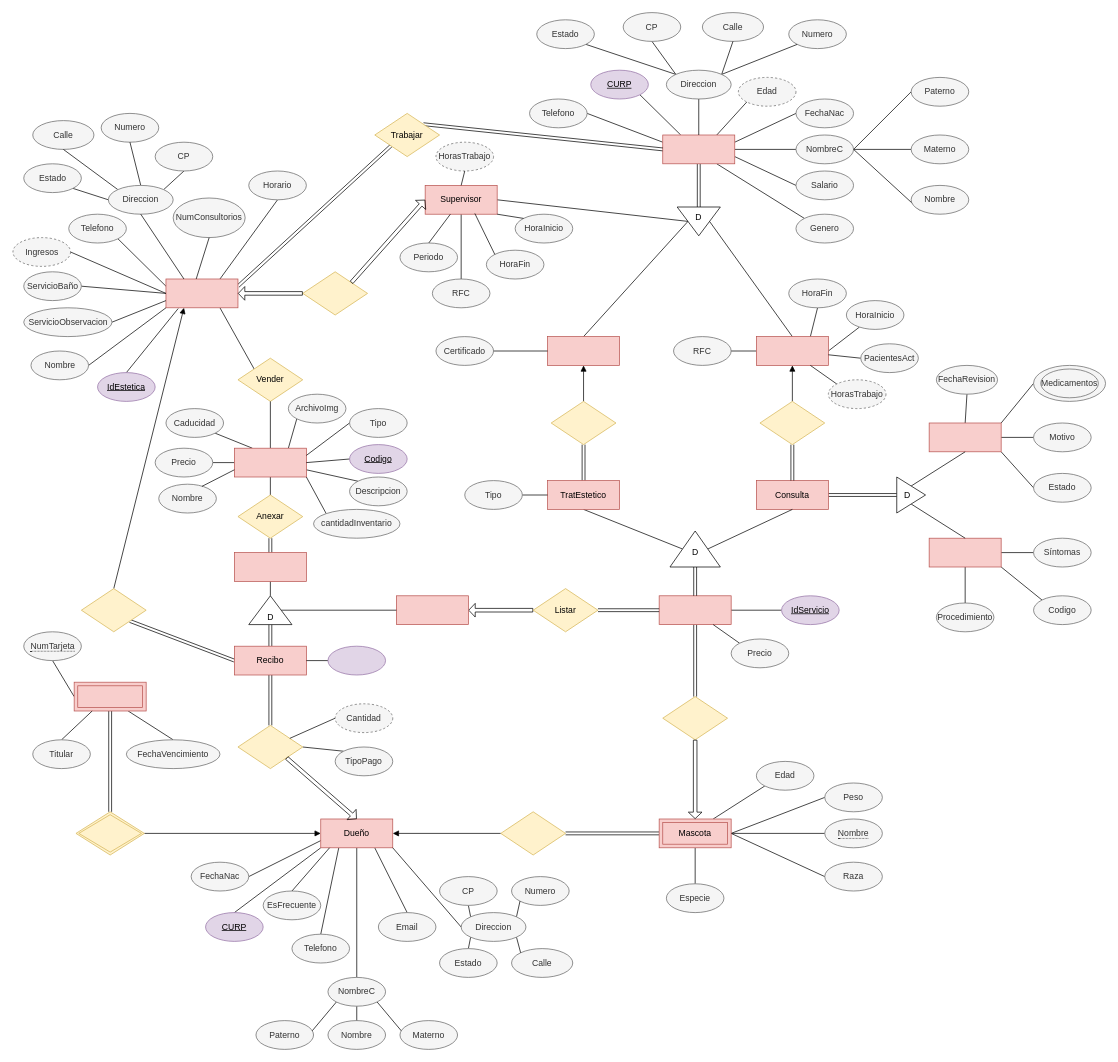
Image size: 1118x1062. Some labels were removed from this diagram. The centre of each missing label's shape, as x and y in pixels:
"Asociar" goes at [109,833].
"Atender" goes at [792,423].
"Emergencia" goes at [964,552].
"Estetica" goes at [201,293].
"Estilista" goes at [583,350].
"Normal" goes at [964,437].
"NumRecibo" goes at [356,660].
"Pagar" goes at [270,747].
"Pertenecer" goes at [533,833].
"Procurar" goes at [583,423].
"Producto" goes at [270,462].
"Realizar" goes at [695,718].
"ReciboProducto" goes at [270,566].
"ReciboServicio" goes at [432,610].
"Registrar" goes at [113,610].
"Servicio" goes at [694,610].
"Supervisar" goes at [335,293].
"Tarjeta" goes at [109,696].
"Trabajador" goes at [698,149].
"Veterinario" goes at [792,350].
